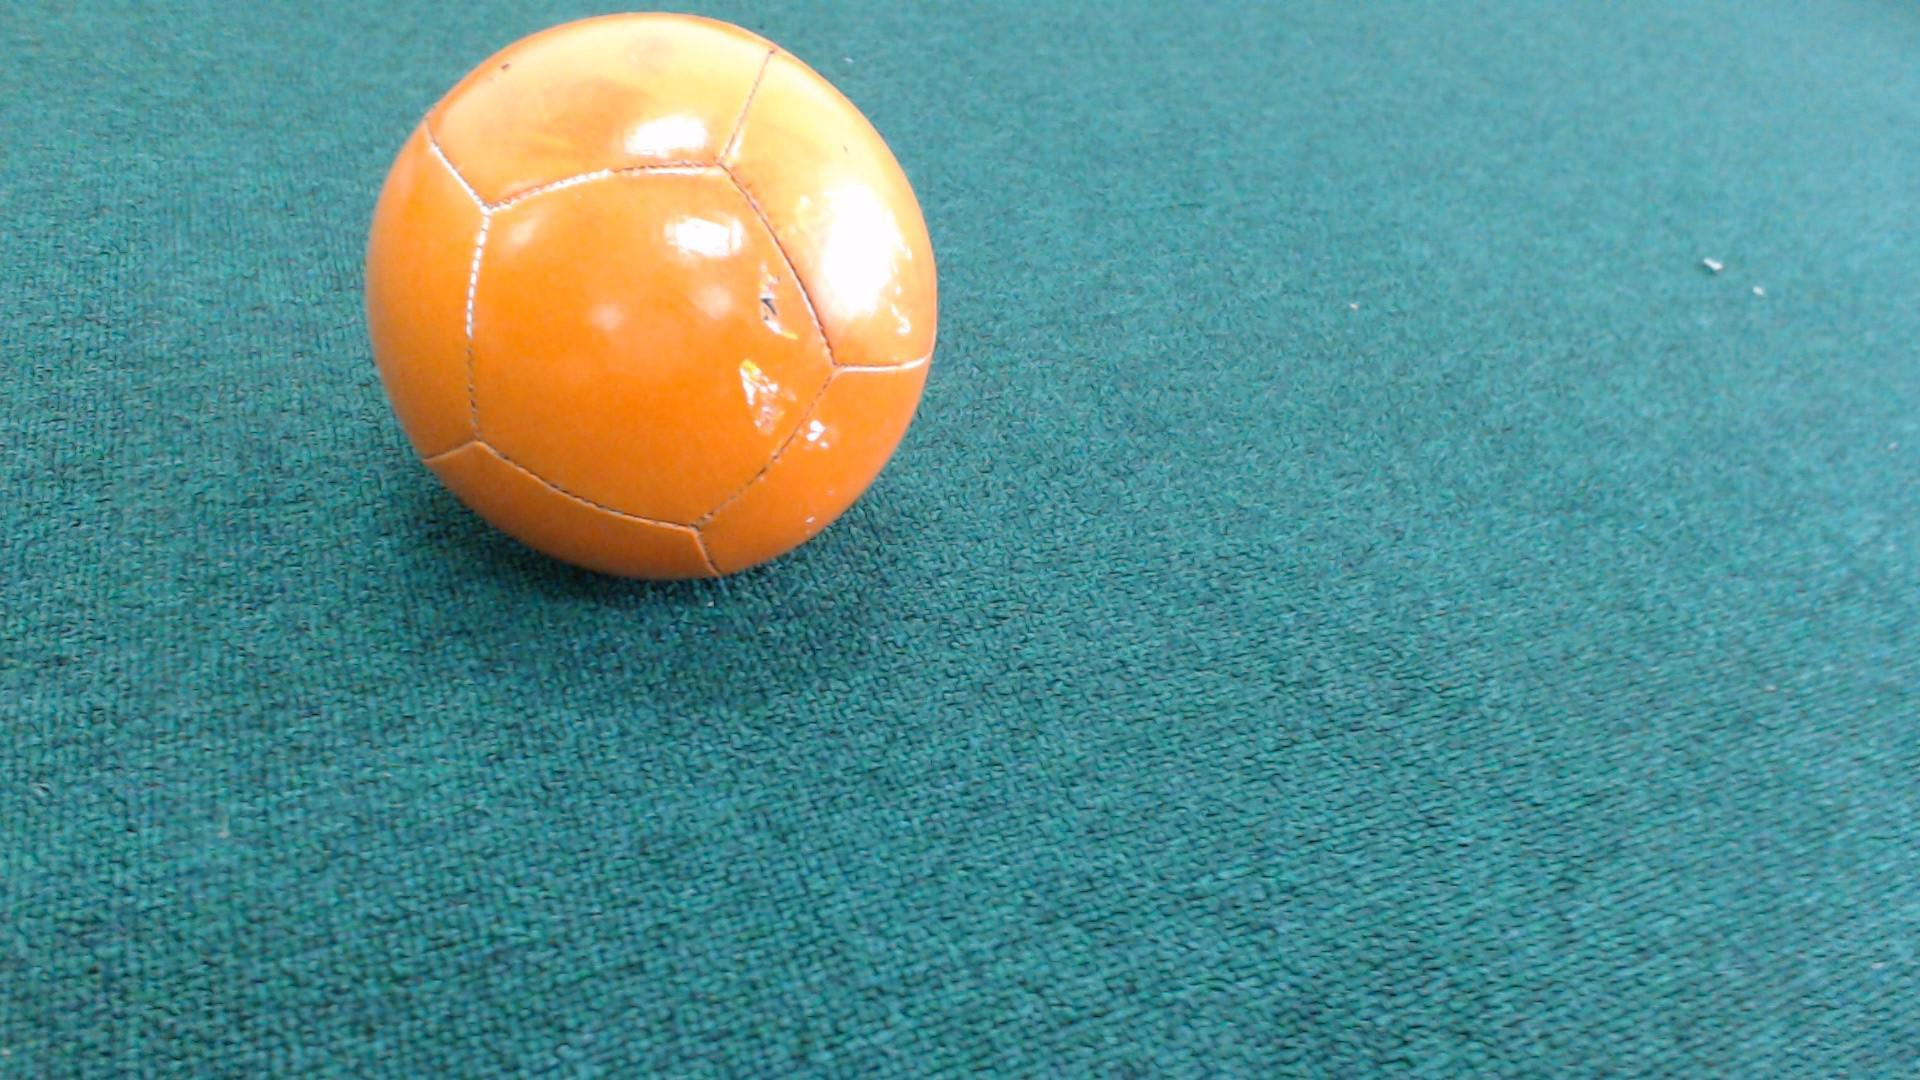bola: (331, 0, 948, 600)
